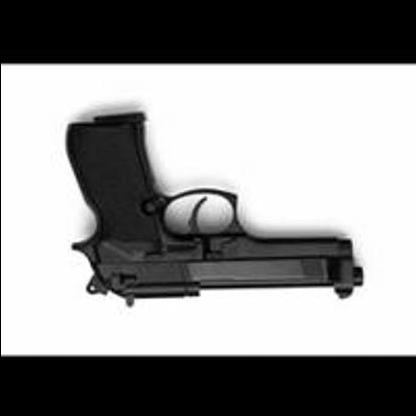weapon: (62, 109, 368, 309)
